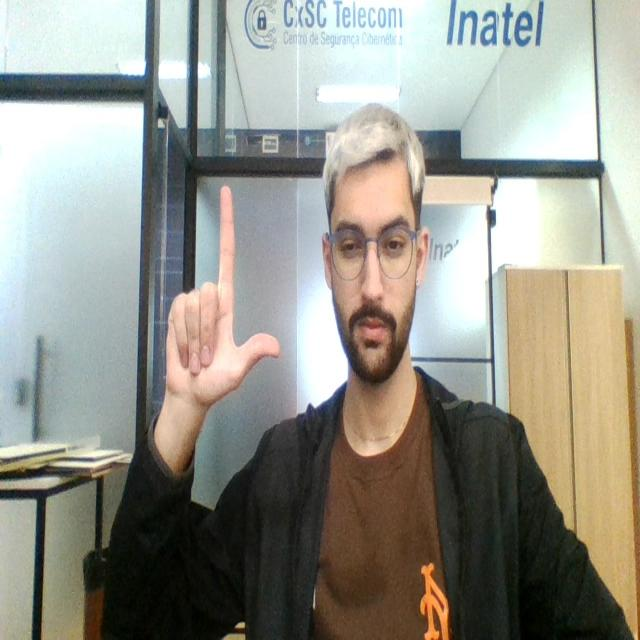L: (164, 176, 282, 418)
